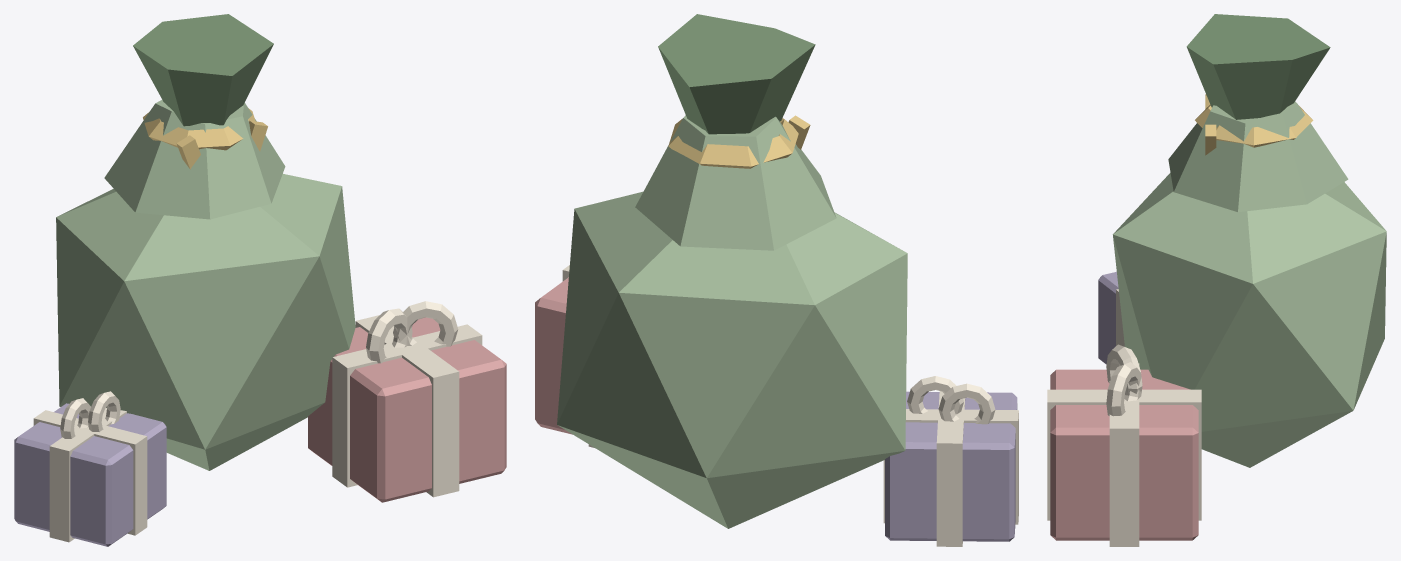
Rendered from sb_gift_sack.glb.
3 renders of one model, left to right at view 1: azimuth 30°, elevation 25°; view 2: azimuth 150°, elevation 25°; view 3: azimuth 270°, elevation 25°, orthographic. The views are drawn at different scales.
Visible parts, largest first — view 1: gift_sack; view 2: gift_sack; view 3: gift_sack.
Part boxes in pixels (x1,y1,x2,y2): gift_sack: (14,14,506,546); gift_sack: (535,14,1018,546); gift_sack: (1047,14,1386,546).
Size of the model in its own units: 0.9015 by 0.8741 by 0.6289.
